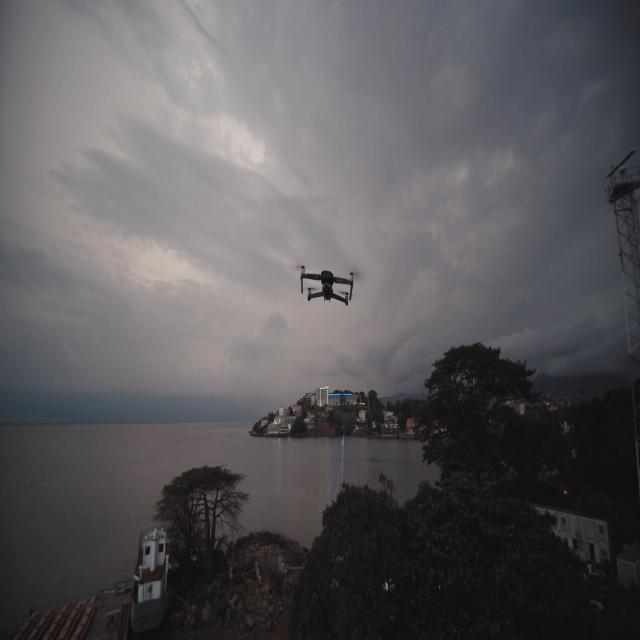drone: (299, 265, 354, 305)
